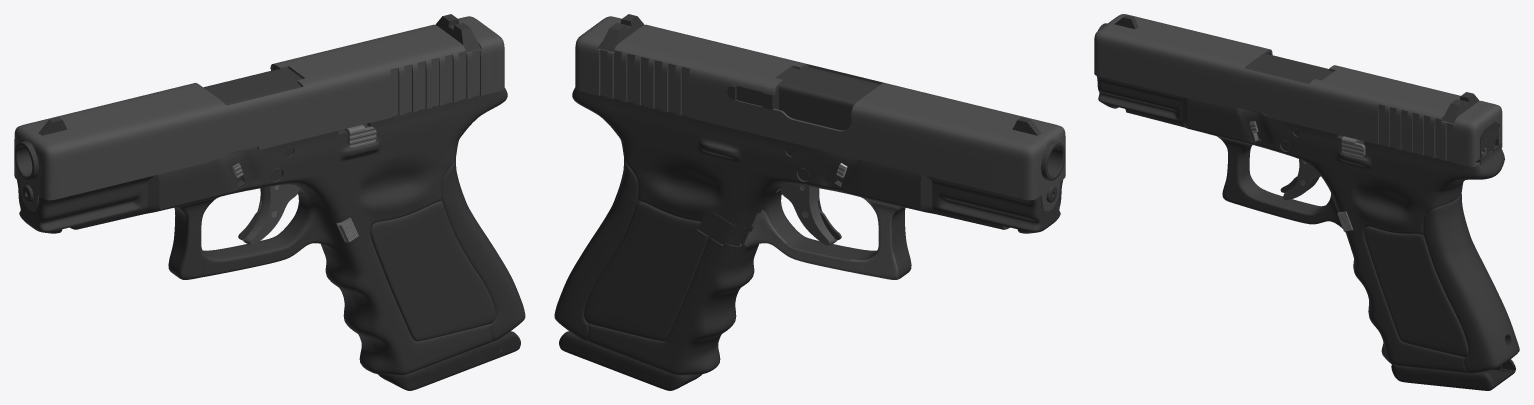
File: glock17.glb
The picture shows the model from 3 angles, left to right: view 1: azimuth 30°, elevation 25°; view 2: azimuth 150°, elevation 25°; view 3: azimuth 330°, elevation 25°; orthographic projection. The views are drawn at different scales.
Visible parts, largest first — view 1: Cube.007_Cube.008, Cube_Cube.001, Cube.022_Cube.024, Cube.038_Cube.052, Cube.027_Cube.038, Cube.003_Cube.004, Cylinder.002, Cube.016; view 2: Cube.007_Cube.008, Cube_Cube.001, Cube.038_Cube.052, Cube.022_Cube.024, Cube.027_Cube.038, Cube.032_Cube.043, Cube.003_Cube.004, Cube.039_Cube.054, Cylinder.002; view 3: Cube.007_Cube.008, Cube_Cube.001, Cube.022_Cube.024, Cube.038_Cube.052, Cube.027_Cube.038, Cube.003_Cube.004, Cube.033_Cube.044, Cube.016.
Part boxes in pixels (left/top/right/bottom): Cube.007_Cube.008: left=17, top=88, right=525, bottom=375; Cube_Cube.001: left=14, top=16, right=504, bottom=210; Cube.022_Cube.024: left=377, top=331, right=520, bottom=390; Cube.038_Cube.052: left=203, top=68, right=302, bottom=153; Cube.027_Cube.038: left=242, top=184, right=299, bottom=245; Cube.003_Cube.004: left=435, top=14, right=480, bottom=52; Cylinder.002: left=14, top=141, right=38, bottom=180; Cube.016: left=344, top=125, right=376, bottom=147; Cube.007_Cube.008: left=554, top=87, right=1062, bottom=375; Cube_Cube.001: left=575, top=16, right=1065, bottom=211; Cube.038_Cube.052: left=778, top=66, right=880, bottom=130; Cube.022_Cube.024: left=559, top=331, right=702, bottom=390; Cube.027_Cube.038: left=780, top=184, right=837, bottom=245; Cube.032_Cube.043: left=699, top=209, right=746, bottom=246; Cube.003_Cube.004: left=599, top=14, right=644, bottom=52; Cube.039_Cube.054: left=727, top=85, right=779, bottom=109; Cylinder.002: left=1041, top=141, right=1065, bottom=180; Cube.007_Cube.008: left=1096, top=76, right=1519, bottom=373; Cube_Cube.001: left=1094, top=14, right=1502, bottom=166; Cube.022_Cube.024: left=1391, top=359, right=1515, bottom=390; Cube.038_Cube.052: left=1243, top=53, right=1333, bottom=114; Cube.027_Cube.038: left=1283, top=159, right=1320, bottom=199; Cube.003_Cube.004: left=1442, top=92, right=1479, bottom=123; Cube.033_Cube.044: left=1480, top=121, right=1498, bottom=158; Cube.016: left=1341, top=136, right=1365, bottom=157.
Bounding box in the file's own units: 2.08 × 1.39 × 0.2803.
Materials: 1 (1 with a texture image).
